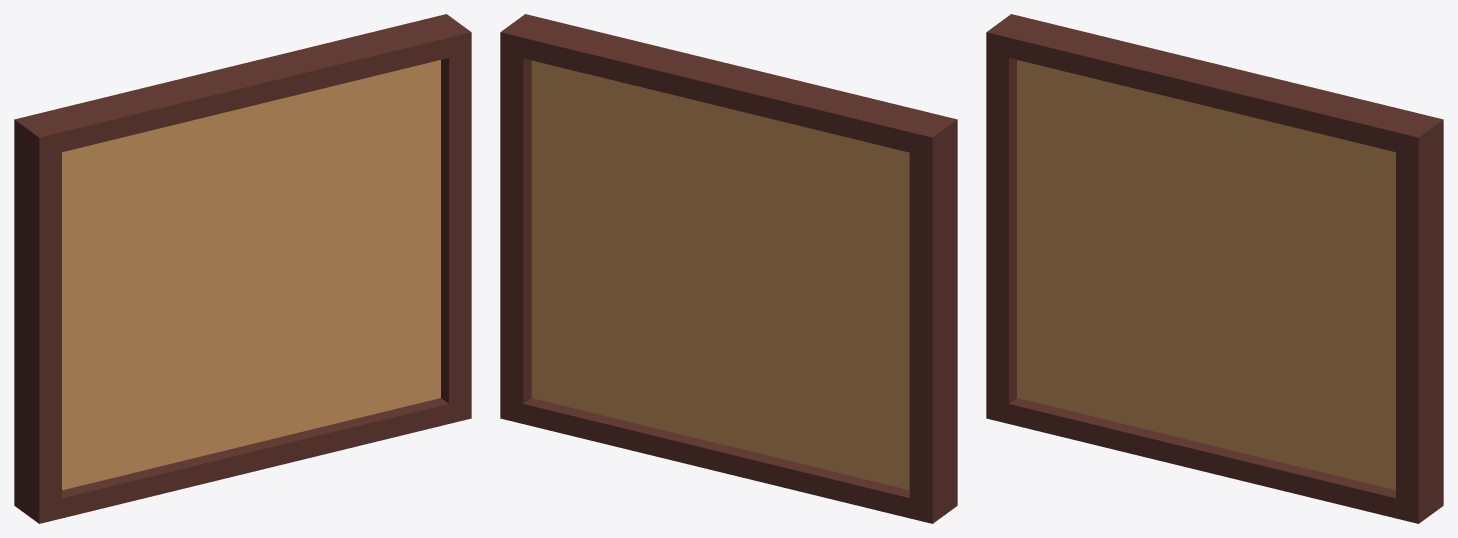
File: signboard_frame.fbx
The picture shows the model from 3 angles, left to right: view 1: azimuth 30°, elevation 25°; view 2: azimuth 150°, elevation 25°; view 3: azimuth 330°, elevation 25°; orthographic projection.
Visible parts, largest first — view 1: Cube; view 2: Cube; view 3: Cube.
Boxes of the visible parts, <box> form: Cube: <box>14,14,471,523</box>; Cube: <box>500,14,957,523</box>; Cube: <box>986,14,1443,523</box>.
Bounding box in the file's own units: 59.84 × 51.1 × 5.98.
